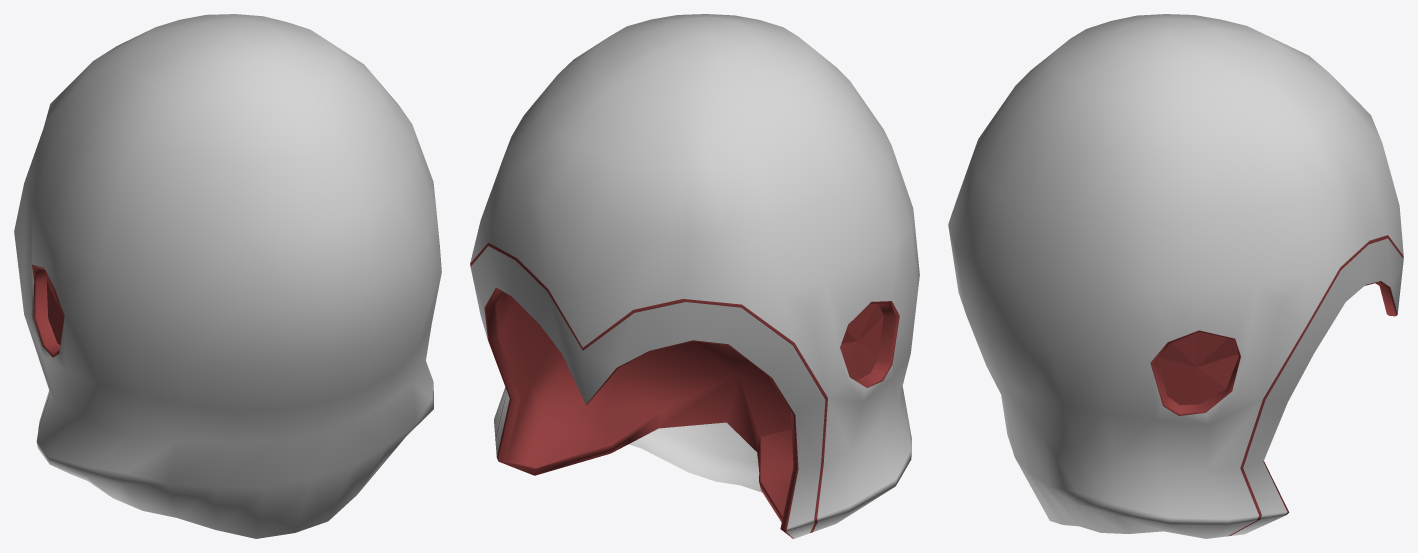
The model's file is Hood_01_mesh.fbx.
3 views of the same model, side by side, from view 1: azimuth 30°, elevation 25°; view 2: azimuth 150°, elevation 25°; view 3: azimuth 270°, elevation 25° (orthographic). The views are drawn at different scales.
Visible parts, largest first — view 1: Hood_01_mesh; view 2: Hood_01_mesh; view 3: Hood_01_mesh.
Boxes of the visible parts, box(x1,y1,x2,y2) form: Hood_01_mesh: box(14, 14, 441, 538); Hood_01_mesh: box(470, 14, 919, 538); Hood_01_mesh: box(948, 14, 1403, 538).
Bounding box in the file's own units: 30.86 × 36.42 × 31.73.
